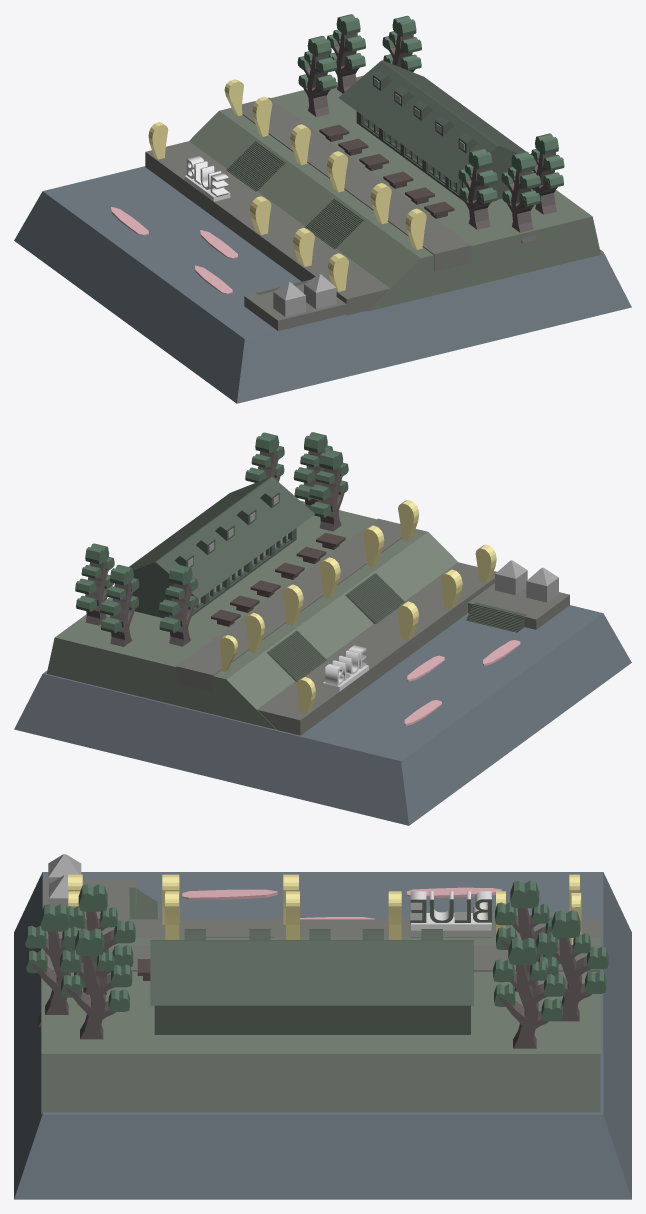
File: main.glb
3 views of the same model, one above another, from view 1: azimuth 30°, elevation 25°; view 2: azimuth 150°, elevation 25°; view 3: azimuth 270°, elevation 25° (orthographic). The views are drawn at different scales.
Parts seen in each view (by area): view 1: テキスト.015, テキスト.016, テキスト.069, テキスト.019, テキスト.018, テキスト.080, テキスト.017, テキスト.150, テキスト.081, テキスト.227, テキスト.167, テキスト.203 (+11 smaller); view 2: テキスト.015, テキスト.016, テキスト.069, テキスト.019, テキスト.018, テキスト.080, テキスト.017, テキスト.150, テキスト.081, テキスト.203, テキスト.179, テキスト.167 (+11 smaller); view 3: テキスト.015, テキスト.016, テキスト.019, テキスト.017, テキスト.069, テキスト.018, テキスト.215, テキスト.191, テキスト.080, テキスト.179, テキスト.227, テキスト.240 (+14 smaller).
Part boxes in pixels (x1,y1,x2,y2): テキスト.015: [14, 166, 631, 403]; テキスト.016: [189, 75, 600, 311]; テキスト.069: [145, 141, 390, 315]; テキスト.019: [338, 60, 525, 182]; テキスト.018: [242, 97, 471, 271]; テキスト.080: [244, 280, 346, 330]; テキスト.017: [356, 111, 509, 201]; テキスト.150: [273, 282, 305, 316]; テキスト.081: [304, 274, 336, 308]; テキスト.227: [511, 170, 535, 242]; テキスト.167: [307, 54, 329, 117]; テキスト.203: [468, 167, 490, 229]; テキスト.015: [14, 605, 631, 825]; テキスト.016: [46, 500, 457, 729]; テキスト.069: [257, 562, 496, 735]; テキスト.019: [129, 476, 314, 599]; テキスト.018: [176, 518, 401, 692]; テキスト.080: [468, 583, 569, 629]; テキスト.017: [132, 528, 296, 618]; テキスト.150: [526, 567, 558, 602]; テキスト.081: [495, 560, 527, 595]; テキスト.203: [319, 466, 341, 531]; テキスト.179: [109, 582, 132, 646]; テキスト.167: [168, 581, 190, 646]; テキスト.015: [14, 872, 631, 1199]; テキスト.016: [41, 937, 600, 1114]; テキスト.019: [150, 940, 473, 1005]; テキスト.017: [154, 1005, 470, 1034]; テキスト.069: [46, 919, 600, 937]; テキスト.018: [41, 945, 600, 971]; テキスト.215: [80, 956, 105, 1039]; テキスト.191: [513, 965, 538, 1048]; テキスト.080: [42, 880, 136, 919]; テキスト.179: [558, 938, 581, 1021]; テキスト.227: [38, 931, 70, 1026]; テキスト.240: [182, 889, 277, 899].
Bounding box in the file's own units: 6.64 × 2.64 × 6.49.
